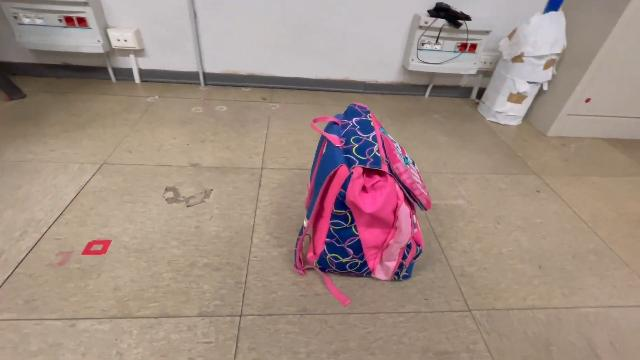Backpack: (286, 96, 438, 310)
